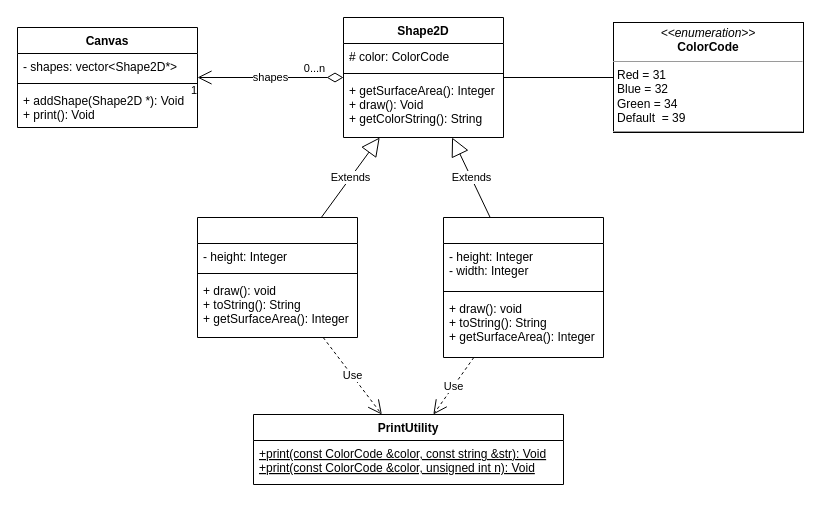
Some shapes in this 821 by 505 pixel diagram are drawn without their labels. Each missing label, with the box of its shape:
Rectangle: (442, 216, 604, 358)
Square: (196, 216, 358, 338)
